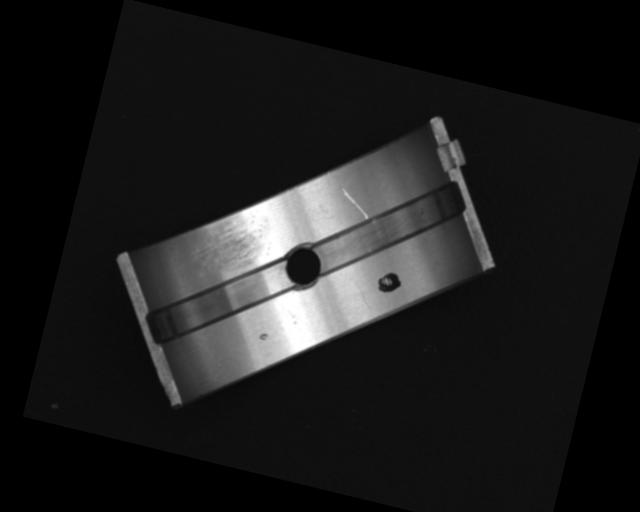blot: (375, 268, 404, 296)
bruise: (258, 331, 269, 341)
gap: (308, 150, 473, 301), (139, 237, 294, 371)
hole: (276, 240, 326, 294)
nick: (335, 186, 374, 221), (349, 277, 378, 314)
scratch: (188, 192, 278, 283)
